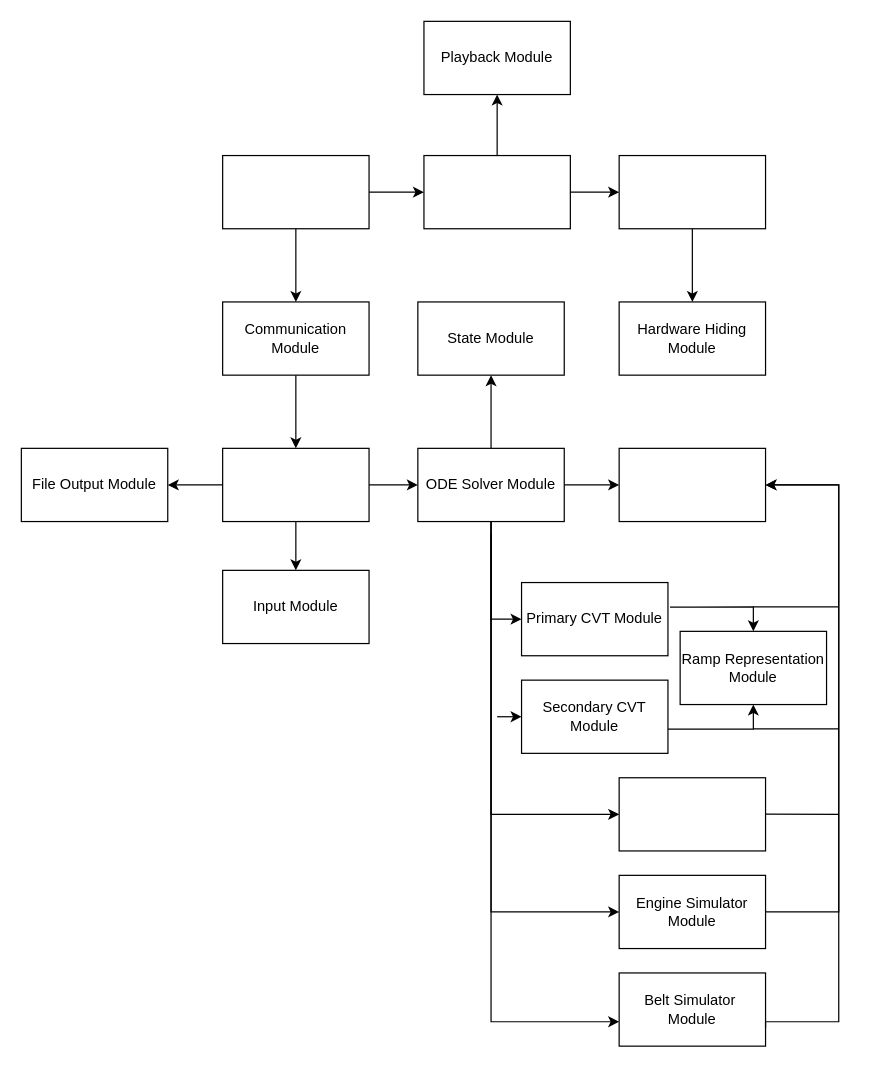
The diagram is 870 pixels wide and 1068 high, and some of its shapes have lost their labels. The centre of each missing label's shape, as x and y in pixels:
Backend Controller Module: (295,484)
Constants Module: (692,484)
External Forces Module: (692,814)
GUI Module: (692,191)
Main Module: (295,191)
Visualizer Module: (496,191)
